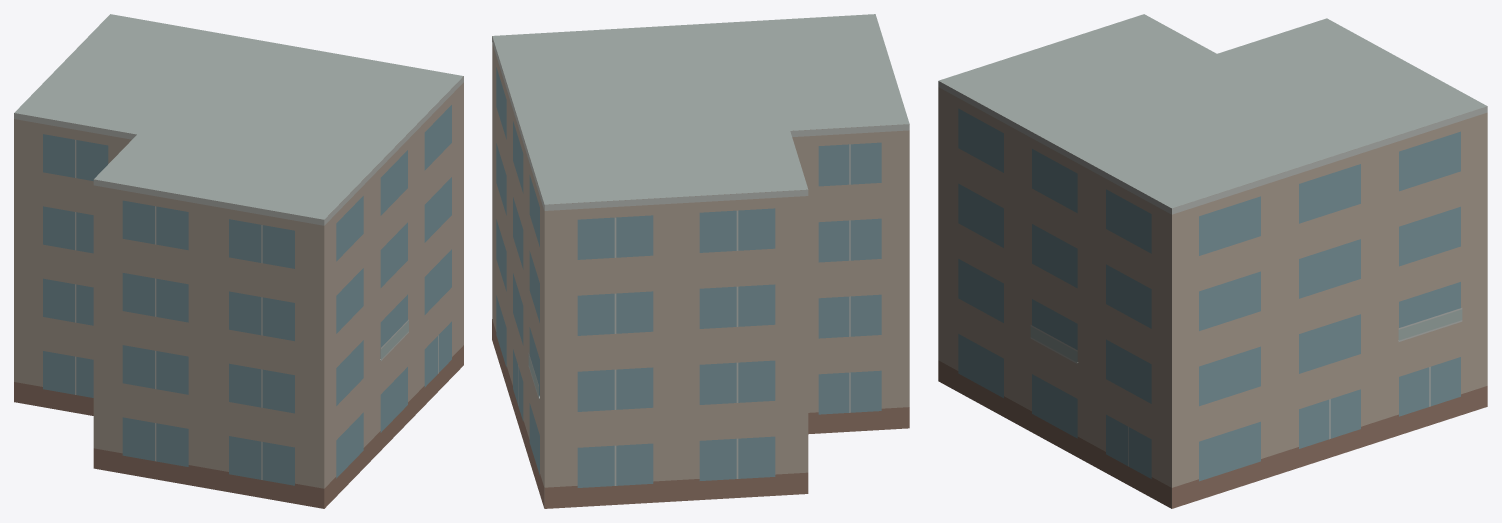
File: survey-upis-32802764.glb
The picture shows the model from 3 angles, left to right: view 1: azimuth 30°, elevation 25°; view 2: azimuth 150°, elevation 25°; view 3: azimuth 270°, elevation 25°; orthographic projection. The views are drawn at different scales.
Parts seen in each view (by area): view 1: survey-upis-32802764.tmp; view 2: survey-upis-32802764.tmp; view 3: survey-upis-32802764.tmp.
Part boxes in pixels (x1,y1,x2,y2): survey-upis-32802764.tmp: (14,14,463,508); survey-upis-32802764.tmp: (492,14,909,508); survey-upis-32802764.tmp: (938,14,1487,508).
Bounding box in the file's own units: 16.25 × 11.7 × 19.4.
